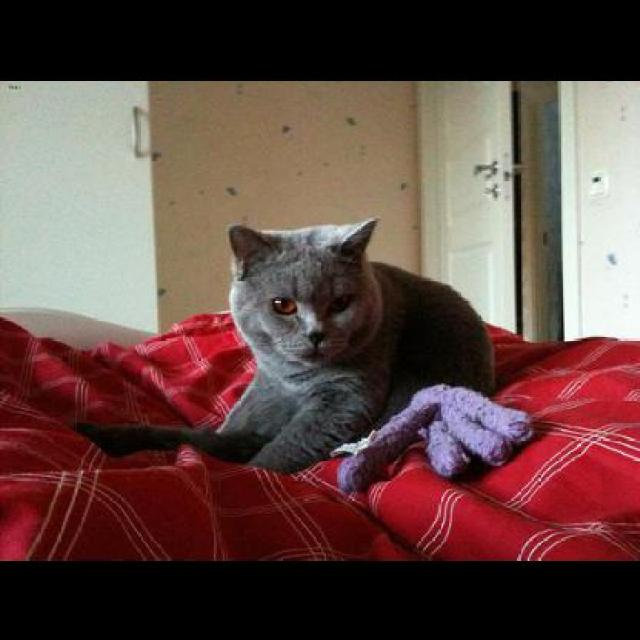unauthorized: (71, 216, 531, 490)
